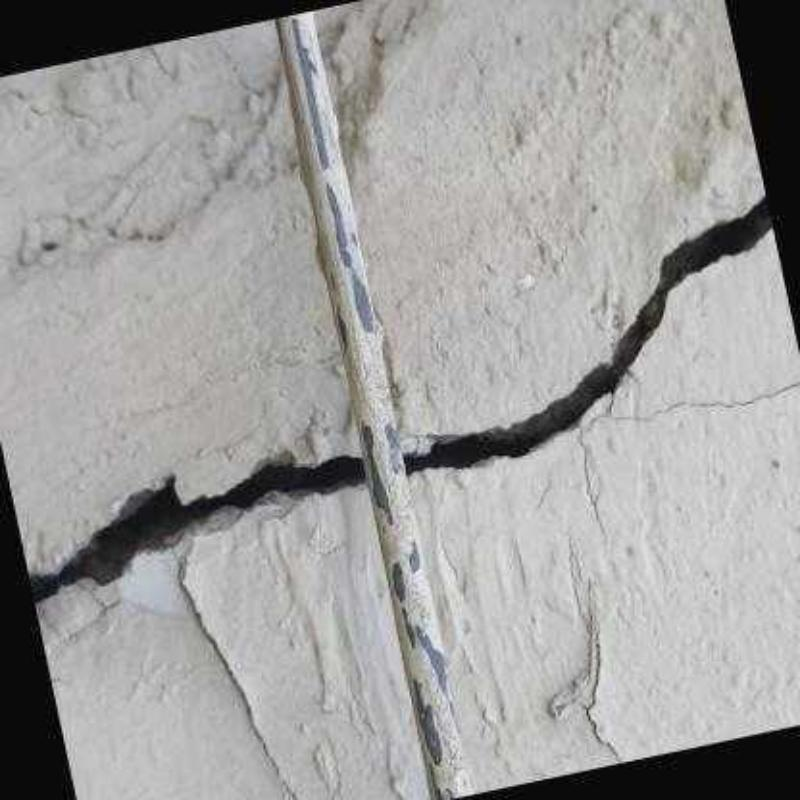crack: (401, 177, 776, 489), (26, 443, 367, 614), (181, 562, 281, 771), (615, 383, 798, 419), (585, 627, 619, 760), (579, 440, 606, 540)
